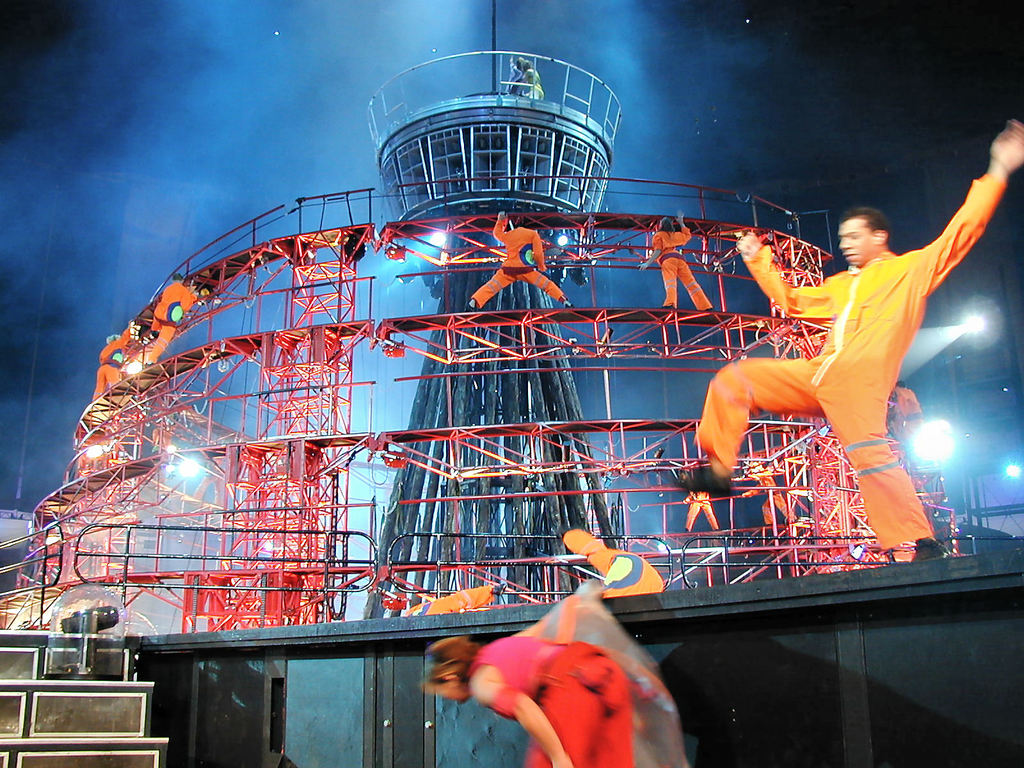Human_hand: (991, 120, 1023, 170), (733, 233, 765, 260), (636, 259, 650, 274), (553, 758, 575, 767), (675, 209, 687, 222), (496, 210, 509, 220), (540, 268, 550, 278), (509, 53, 514, 62)
